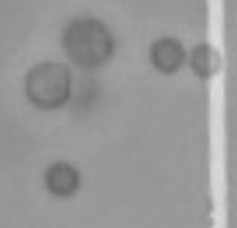cell: (57, 11, 115, 73), (20, 58, 77, 113), (37, 156, 85, 200), (145, 32, 188, 77), (185, 37, 225, 85)
